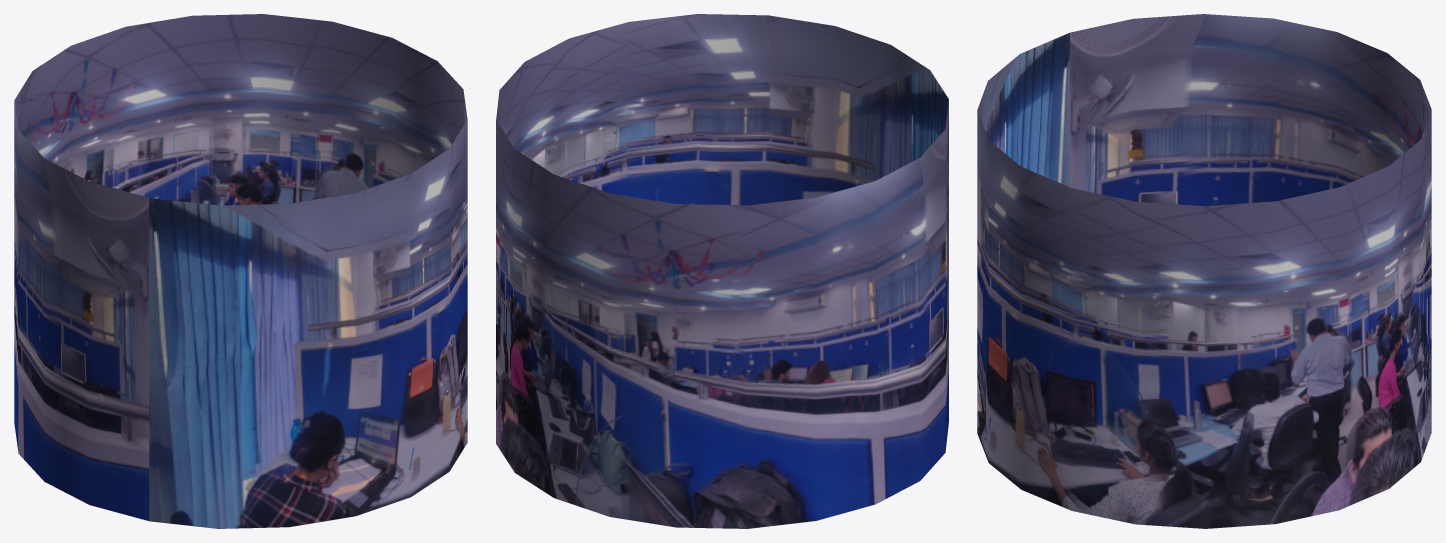
The model's file is cil 1.fbx.
3 renders of one model, left to right at view 1: azimuth 30°, elevation 25°; view 2: azimuth 150°, elevation 25°; view 3: azimuth 270°, elevation 25°, orthographic.
Visible parts, largest first — view 1: pCylinder2; view 2: pCylinder2; view 3: pCylinder2.
Boxes of the visible parts, bbox=[...] form: pCylinder2: bbox=[14, 14, 467, 528]; pCylinder2: bbox=[496, 14, 948, 528]; pCylinder2: bbox=[977, 14, 1431, 528].
Size of the model in its own units: 18.78 by 14.72 by 18.78.
Materials: 1 (1 with a texture image).
